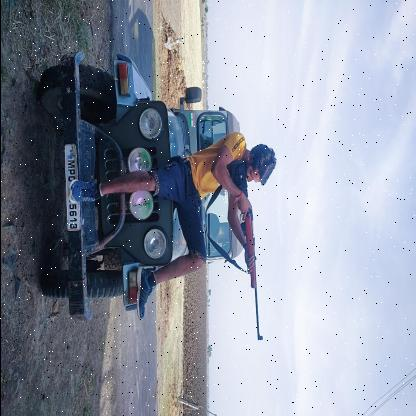rifle: (224, 158, 262, 341)
